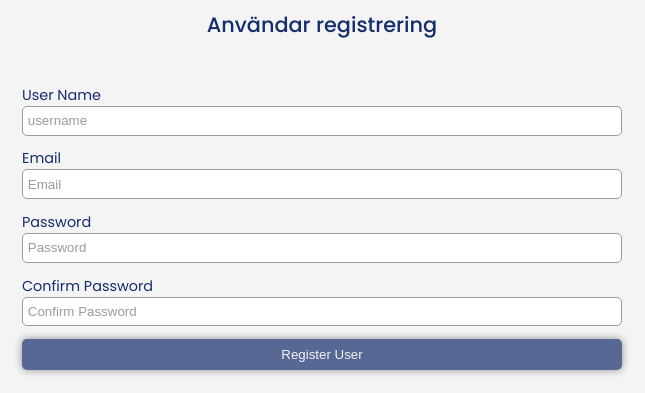
Test: Register User Component › Form interactions › register button should be enabled when password and confirm password are the same
Type "Pa$$w0rd" into the password field labelled "Password" at (322, 248), box top-left (22, 233), bottom-right (622, 263)
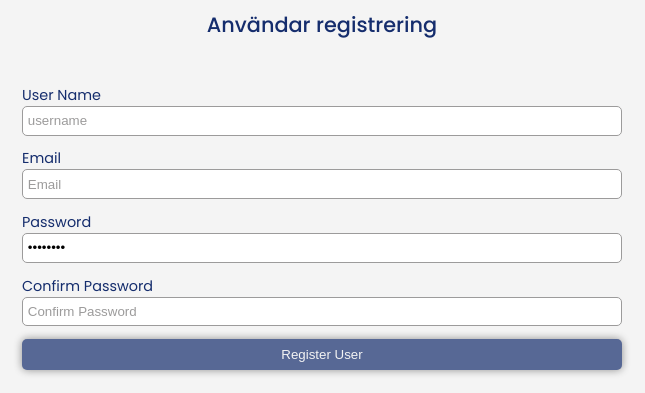
Type "Pa$$w0rd" into the password field labelled "Confirm Password" at (322, 311), box top-left (22, 296), bottom-right (622, 326)
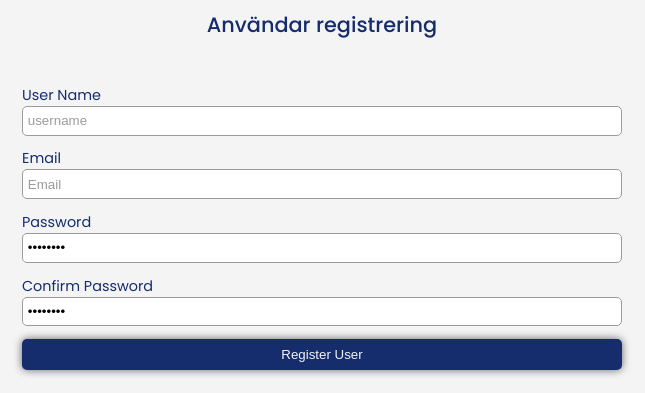
Expected: the button "Register User" is enabled, top-left (22, 339), bottom-right (622, 370)
